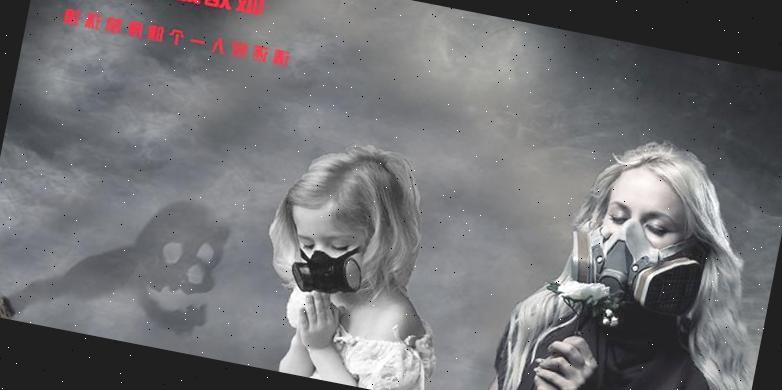smoke: (284, 0, 532, 173), (13, 31, 216, 166), (708, 177, 782, 390), (413, 185, 531, 313), (0, 139, 97, 269)
